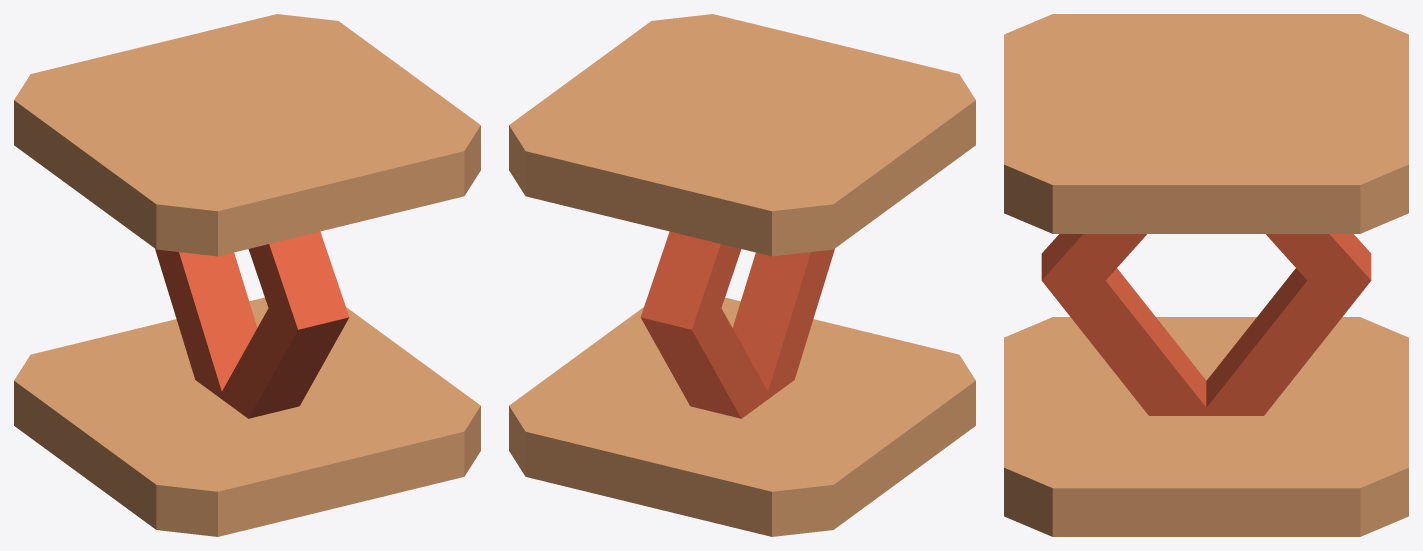
The model's file is spring.fbx.
3 renders of one model, left to right at view 1: azimuth 30°, elevation 25°; view 2: azimuth 150°, elevation 25°; view 3: azimuth 270°, elevation 25°, orthographic. The views are drawn at different scales.
Parts seen in each view (by area): view 1: Cube, Cube.001, Cube.002; view 2: Cube, Cube.001, Cube.002; view 3: Cube, Cube.001, Cube.002.
Part boxes in pixels (x1,y1,x2,y2): Cube: (14,14,480,256); Cube.001: (14,297,480,536); Cube.002: (155,231,349,418); Cube: (509,14,975,256); Cube.001: (509,297,975,536); Cube.002: (640,231,834,418); Cube: (1004,14,1408,233); Cube.001: (1004,317,1408,536); Cube.002: (1041,234,1371,415).
Size of the model in its own units: 200 by 192 by 200.
